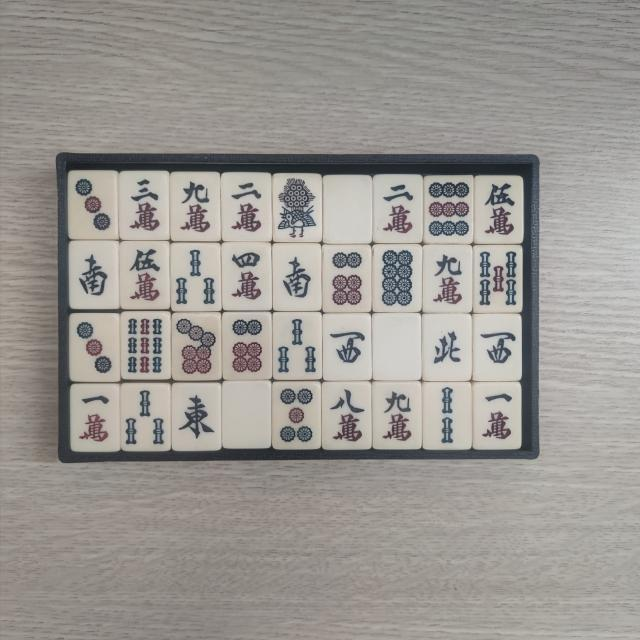hdw: (330, 180, 370, 238), (380, 318, 418, 378), (228, 386, 266, 444)
hwe: (175, 389, 216, 447)
hwn: (428, 318, 468, 377)
hws: (278, 248, 318, 308), (76, 247, 116, 306)
hww: (328, 319, 368, 378), (477, 320, 517, 378)
sb1: (276, 178, 318, 242)
sb2: (428, 386, 469, 448)
sb3: (174, 247, 218, 309), (277, 317, 320, 377), (124, 388, 166, 448)
sb5: (478, 250, 520, 310)
sb9: (124, 317, 166, 377)
sc1: (76, 390, 115, 448), (478, 386, 516, 444)
sc2: (226, 177, 268, 237), (378, 180, 418, 239)
sc3: (124, 174, 164, 236)
sc4: (227, 247, 268, 306)
sc5: (124, 244, 165, 306), (480, 181, 520, 241)
sc8: (328, 386, 368, 446)
sc9: (176, 174, 216, 236), (428, 250, 469, 310), (377, 385, 417, 445)
sd3: (75, 318, 117, 379), (74, 173, 115, 234)
sd5: (277, 386, 317, 446)
sd6: (228, 318, 268, 378), (328, 248, 368, 308)
sd7: (175, 317, 218, 379)
sd8: (376, 250, 416, 310)
sd9: (426, 180, 469, 240)
